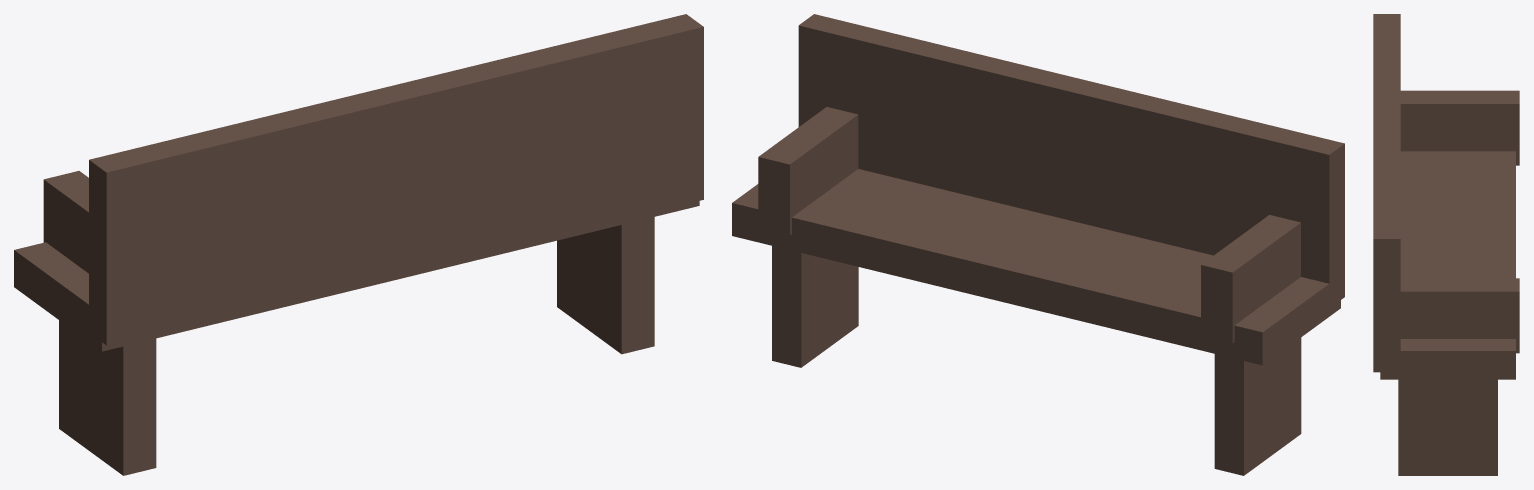
The model's file is pew.glb.
3 views of the same model, side by side, from view 1: azimuth 30°, elevation 25°; view 2: azimuth 150°, elevation 25°; view 3: azimuth 270°, elevation 25° (orthographic). The views are drawn at different scales.
Visible parts, largest first — view 1: pew; view 2: pew; view 3: pew.
Part boxes in pixels (x1=…): pew: x1=14, y1=14, x2=703, y2=475; pew: x1=732, y1=14, x2=1344, y2=475; pew: x1=1373, y1=14, x2=1519, y2=475.
Size of the model in its own units: 2.35 by 1.22 by 0.645.
